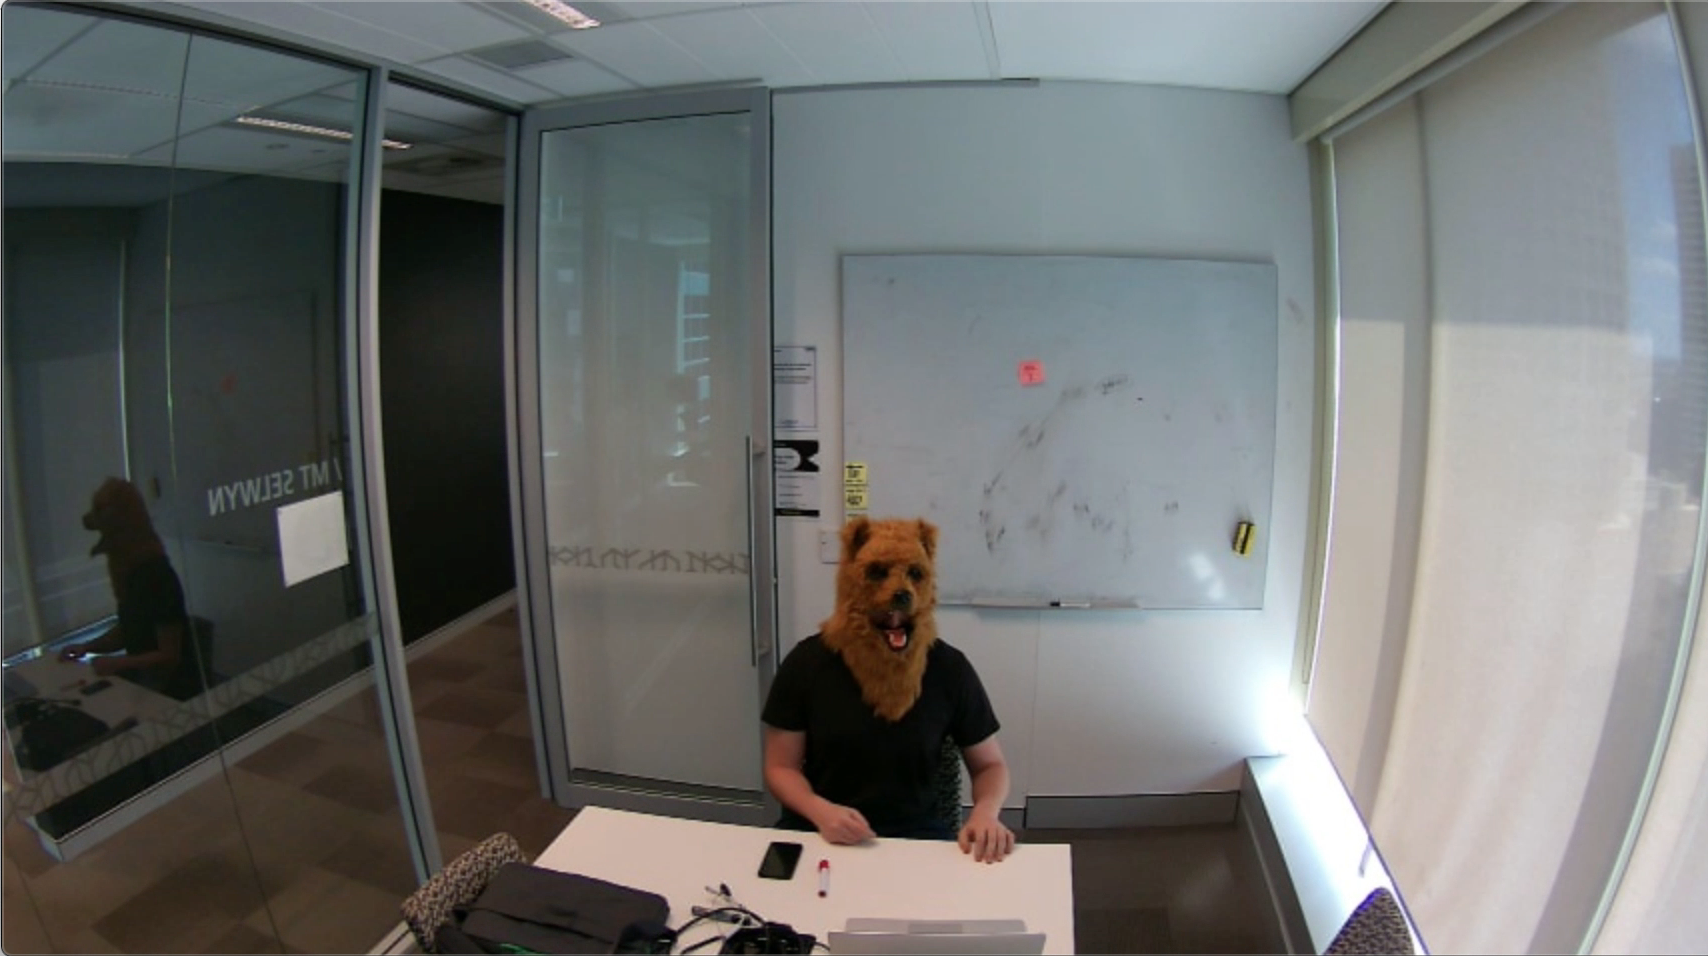Bear: (831, 515, 944, 665)
